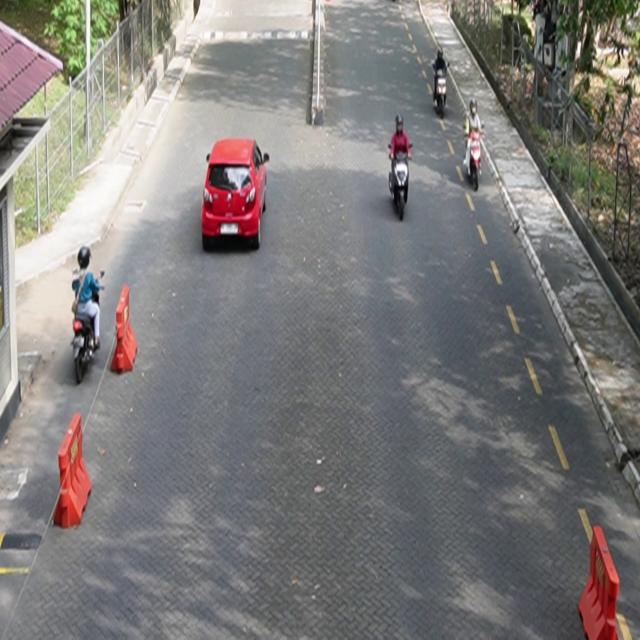car: (202, 138, 270, 251)
